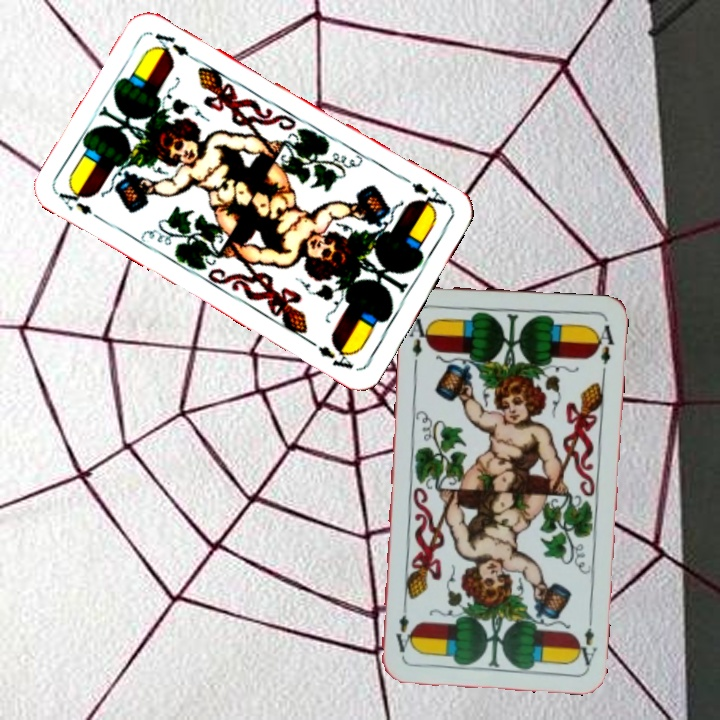EA: (54, 182, 107, 225), (407, 178, 453, 215), (572, 610, 599, 668), (405, 314, 433, 359)
